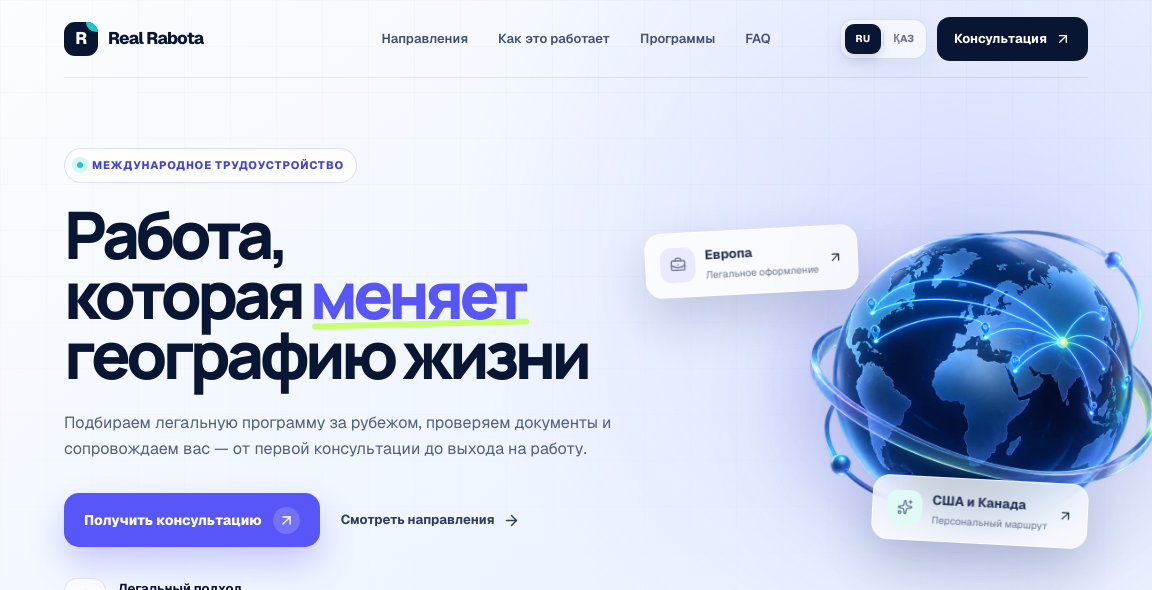
Test case: Real Rabota landing › localizes the country job dialog in Kazakh
This screenshot has width=1152, height=590.
Click the button "ҚАЗ".
click(904, 38)  # box 886,24 -> 922,54
(page scrolled)
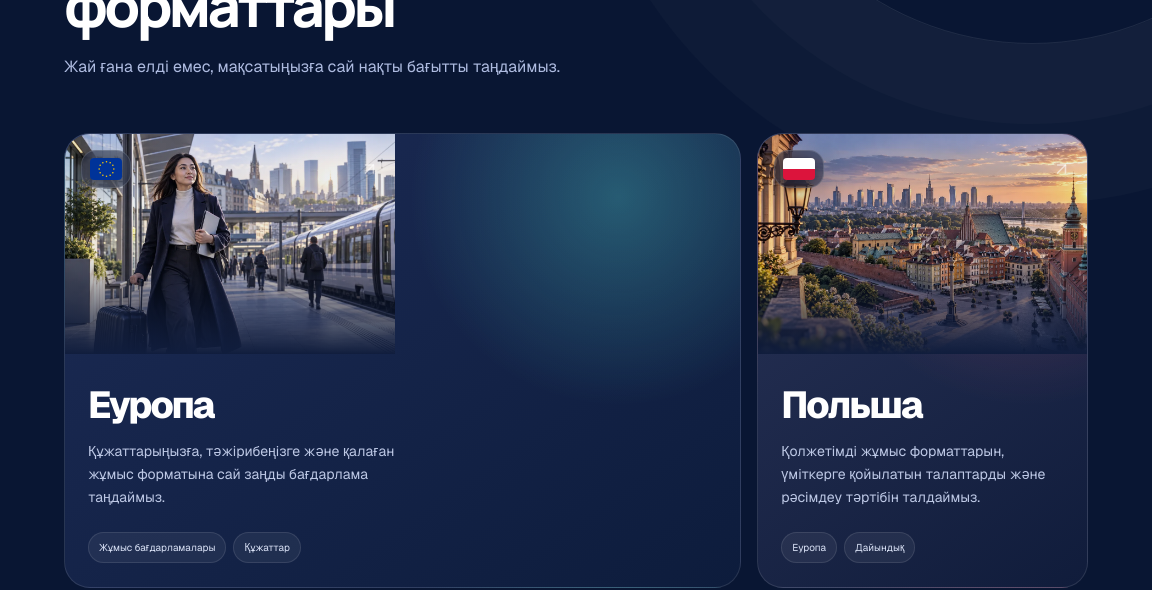
Click the button "Польша".
click(923, 360)  # box 757,133 -> 1088,588
(page scrolled)
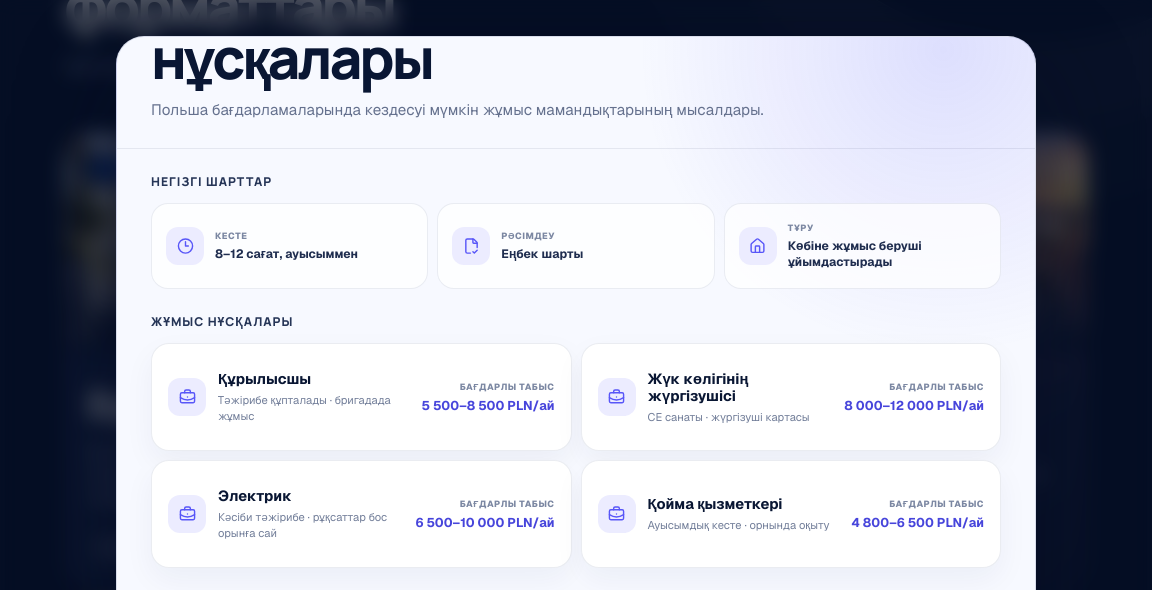
Result: the text "Құрылысшы" is shown at 218,369 -> 311,388
